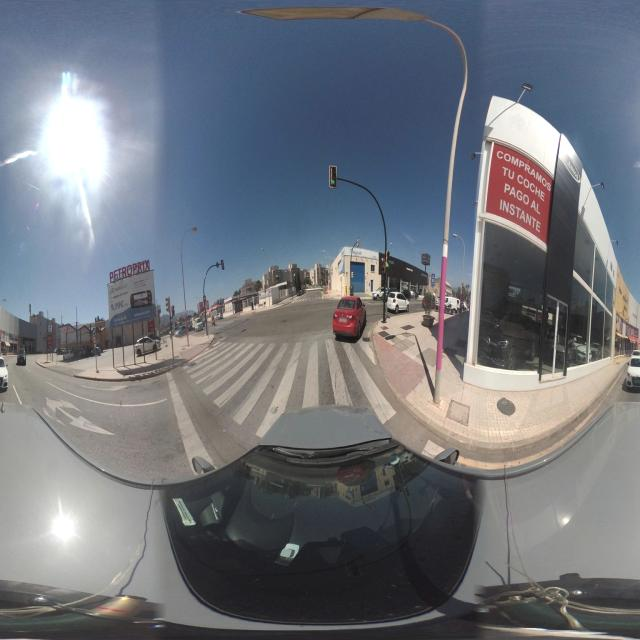car: (332, 294, 367, 340), (624, 355, 640, 392), (385, 291, 410, 314), (134, 334, 160, 356), (0, 355, 8, 393), (372, 289, 388, 302), (16, 349, 27, 367)
